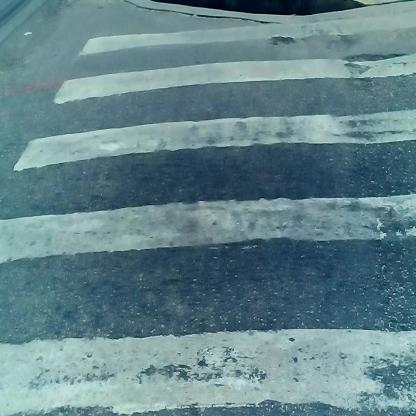crosswalk: (21, 40, 416, 416)
